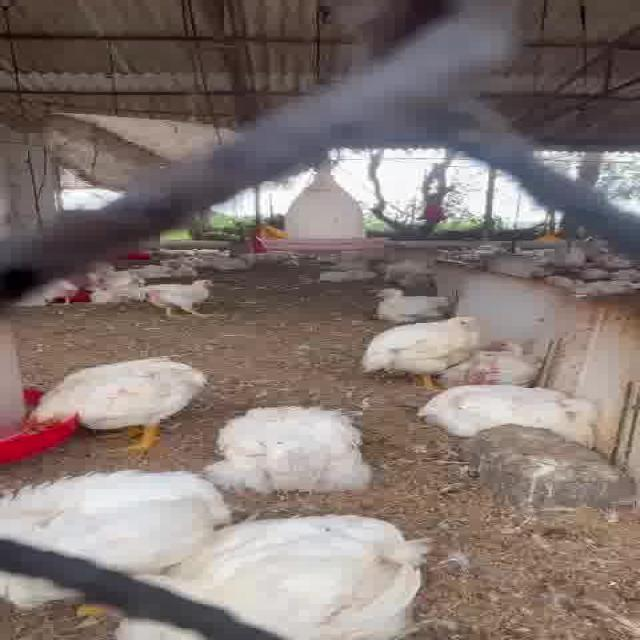AbNormal: (136, 518, 443, 640), (0, 470, 232, 598), (204, 399, 396, 498), (414, 382, 610, 446), (422, 340, 550, 385), (366, 282, 477, 320)
Normal: (12, 354, 212, 460), (350, 312, 494, 382), (136, 270, 228, 321)
